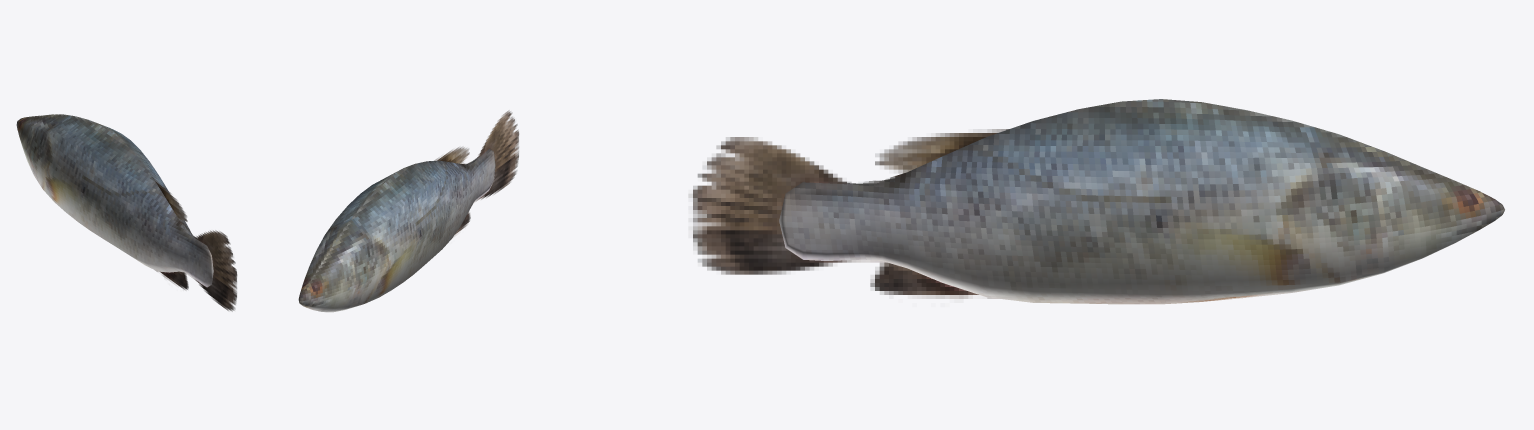
File: bass.glb
3 renders of one model, left to right at view 1: azimuth 30°, elevation 25°; view 2: azimuth 150°, elevation 25°; view 3: azimuth 270°, elevation 25°, orthographic. The views are drawn at different scales.
Parts seen in each view (by area): view 1: Cube, Plane; view 2: Cube, Plane; view 3: Cube, Plane.
Boxes of the visible parts, x1,y1,x2,y2 form: Cube: (16, 114, 213, 287); Plane: (152, 177, 237, 311); Cube: (298, 149, 495, 312); Plane: (434, 110, 519, 238); Cube: (779, 99, 1504, 304); Plane: (688, 129, 1008, 298).
Size of the model in its own units: 0.6406 by 2.18 by 4.62.
Materials: 1 (1 with a texture image).
